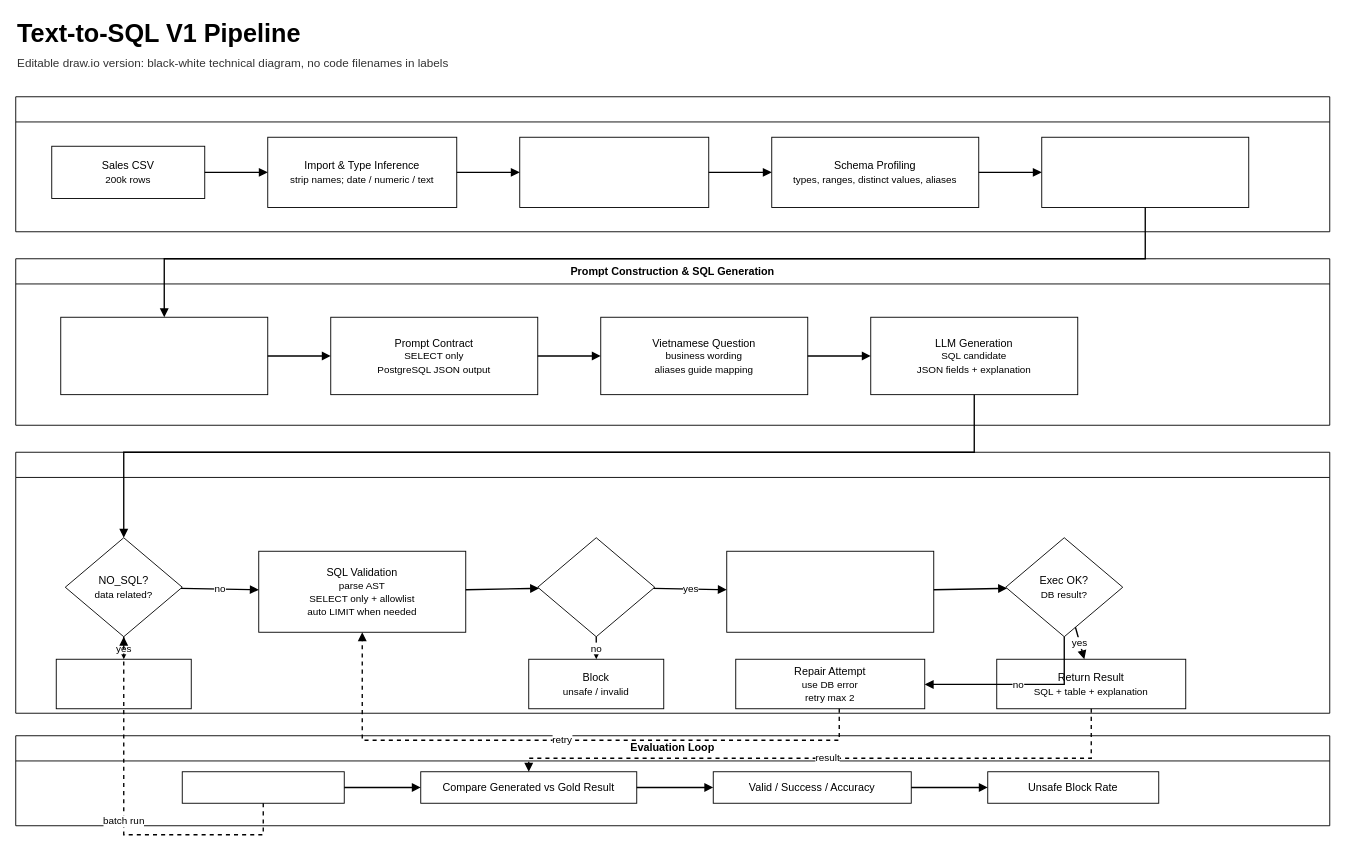
Image size: 1346x858. Some labels were removed from this diagram. Each missing label, with the box of its shape:
20 Test Questions: (181, 771, 344, 803)
Data Preparation: (15, 96, 1330, 232)
Guardrails, Execution & Repair: (15, 451, 1330, 713)
PostgreSQL product_sales table admin + readonly users: (519, 136, 709, 207)
Readonly Execution least privilege user 30s timeout max 500 result rows: (726, 550, 934, 632)
Schema Context CREATE TABLE-style text sample values + ranges: (60, 316, 268, 395)
Schema Summary compact metadata + evidence: (1041, 136, 1249, 207)
Stop not data-related: (55, 658, 191, 709)
Valid? safe SQL?: (537, 537, 655, 637)
